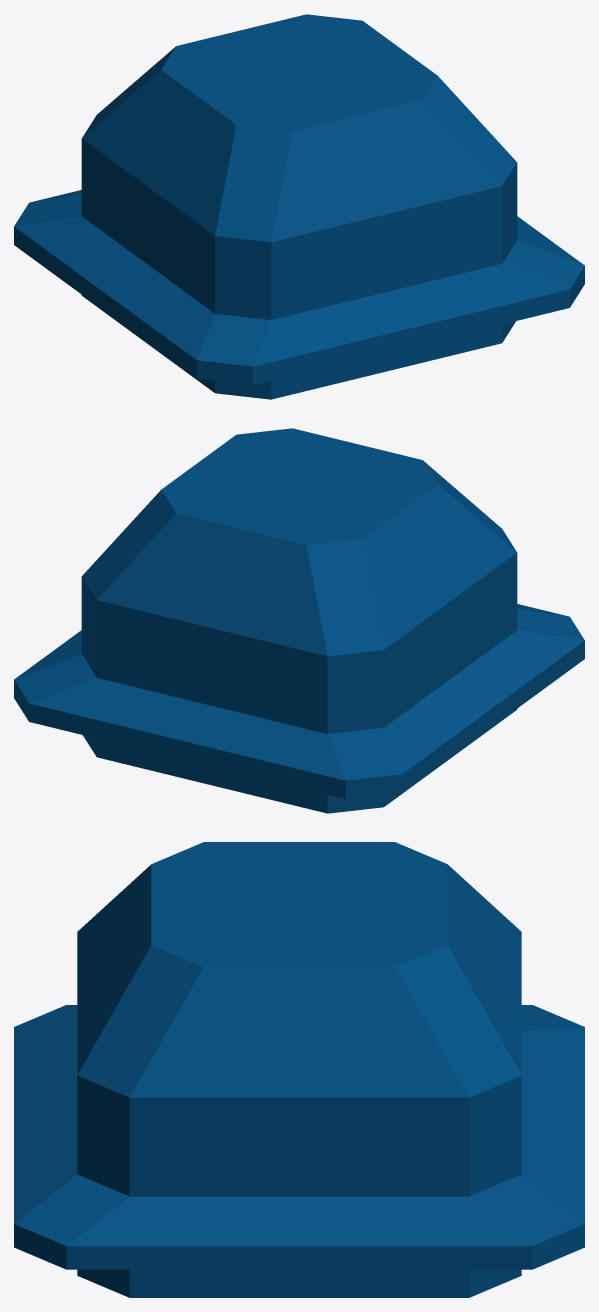
The model's file is medium.glb.
The picture shows the model from 3 angles, top to bottom: view 1: azimuth 30°, elevation 25°; view 2: azimuth 150°, elevation 25°; view 3: azimuth 270°, elevation 25°; orthographic projection. The views are drawn at different scales.
Parts seen in each view (by area): view 1: Cube; view 2: Cube; view 3: Cube.
Part boxes in pixels (<box>): Cube: <box>14,14,584,399</box>; Cube: <box>14,428,584,813</box>; Cube: <box>14,842,584,1297</box>.
Size of the model in its own units: 25.24 by 14.6 by 25.24.
